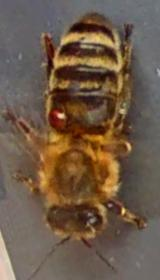varroa_mite: (40, 100, 78, 132)
